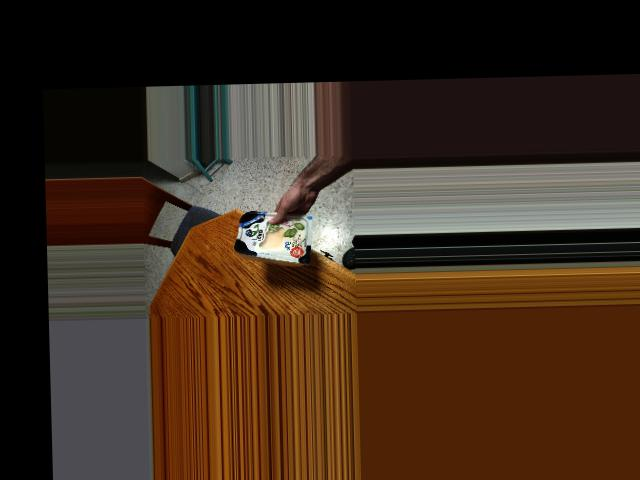cheese: (234, 195, 317, 270)
